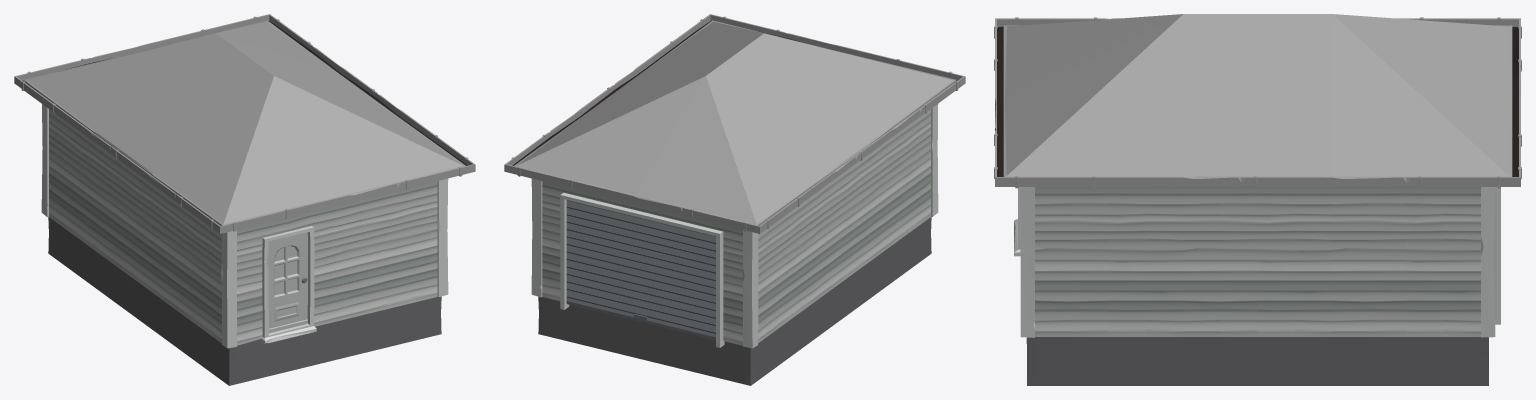
Rendered from SM_Bld_House_Preset_Garage_01.fbx.
The picture shows the model from 3 angles, left to right: view 1: azimuth 30°, elevation 25°; view 2: azimuth 150°, elevation 25°; view 3: azimuth 270°, elevation 25°; orthographic projection. The views are drawn at different scales.
Parts seen in each view (by area): view 1: SM_Bld_House_Preset_Garage_01; view 2: SM_Bld_House_Preset_Garage_01; view 3: SM_Bld_House_Preset_Garage_01.
Boxes of the visible parts, <box> form: SM_Bld_House_Preset_Garage_01: <box>14,14,475,385</box>; SM_Bld_House_Preset_Garage_01: <box>504,14,965,385</box>; SM_Bld_House_Preset_Garage_01: <box>994,14,1521,385</box>.
Bounding box in the file's own units: 637 × 567 × 887.
